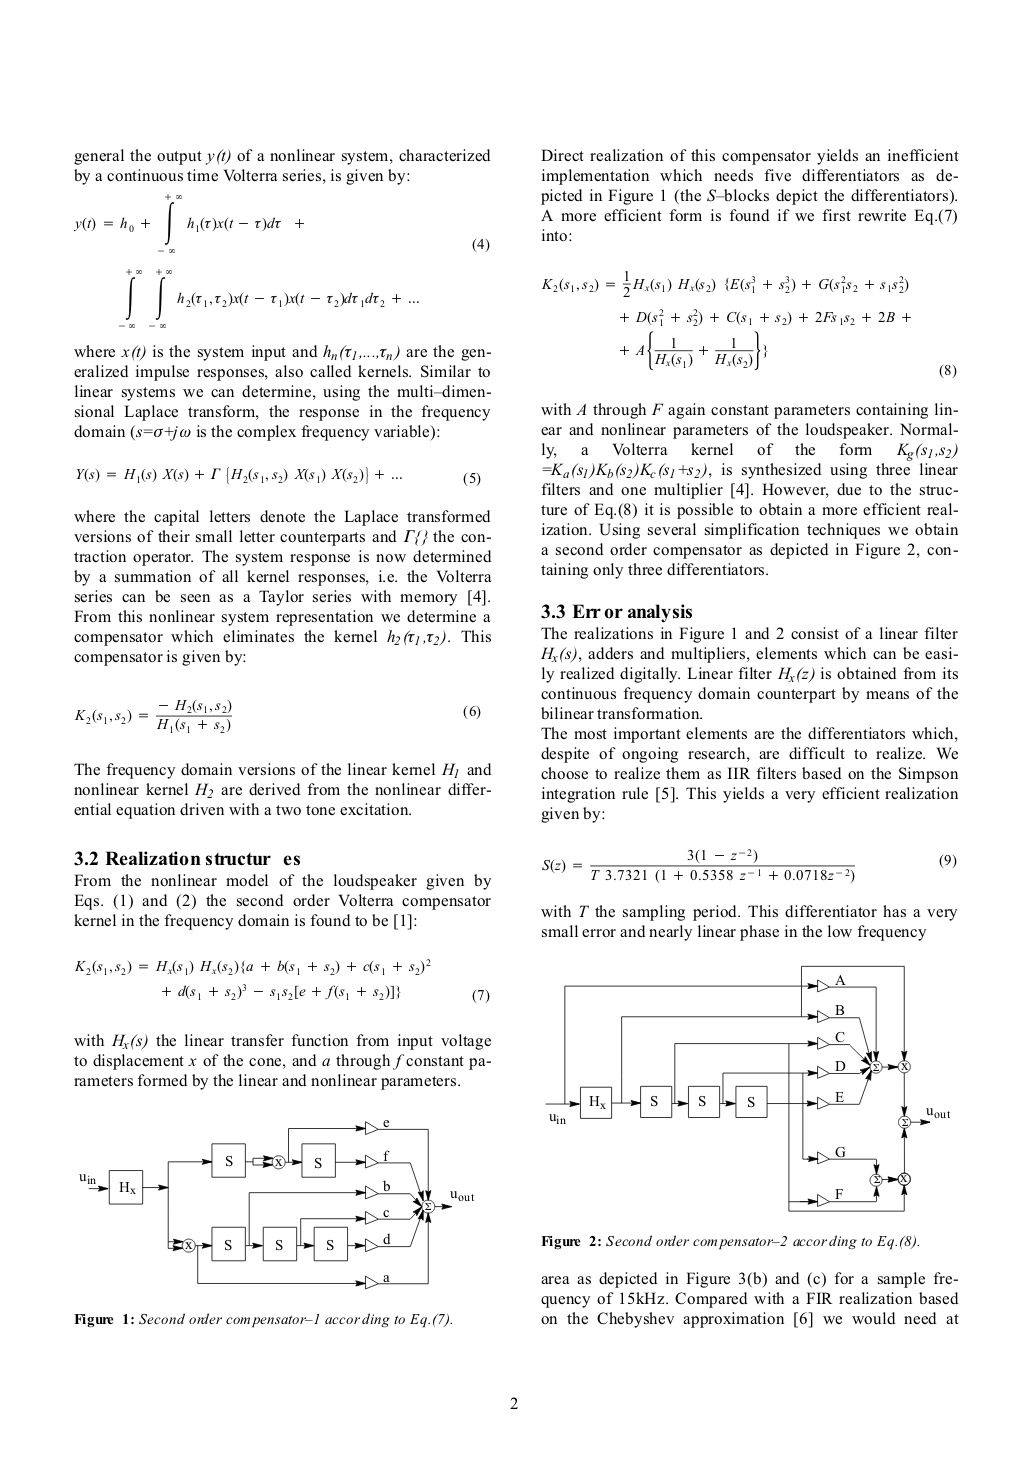figure: (545, 964, 950, 1212), (79, 1118, 474, 1289)
formula: (73, 193, 489, 253), (119, 269, 418, 327), (620, 330, 956, 378), (542, 848, 956, 883), (74, 698, 480, 733), (541, 270, 908, 297), (76, 465, 480, 486), (162, 982, 489, 1003), (74, 958, 430, 975), (620, 308, 910, 326)
